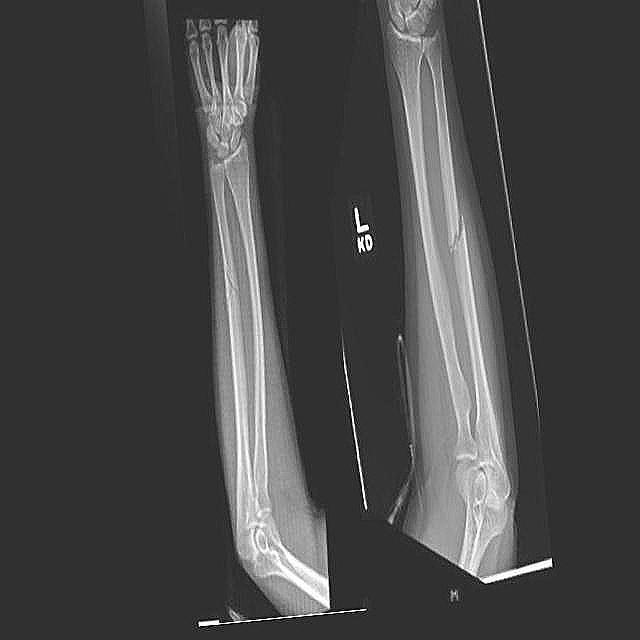bone: (438, 191, 474, 265), (216, 251, 241, 310)
